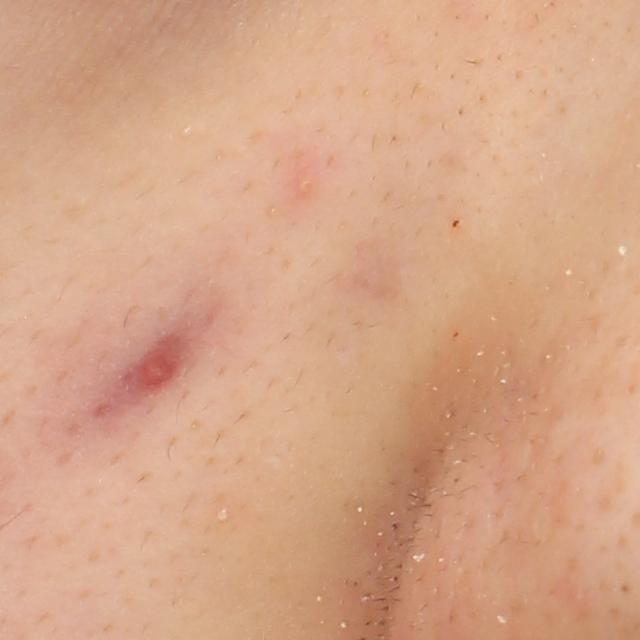papule: (137, 354, 174, 387)
